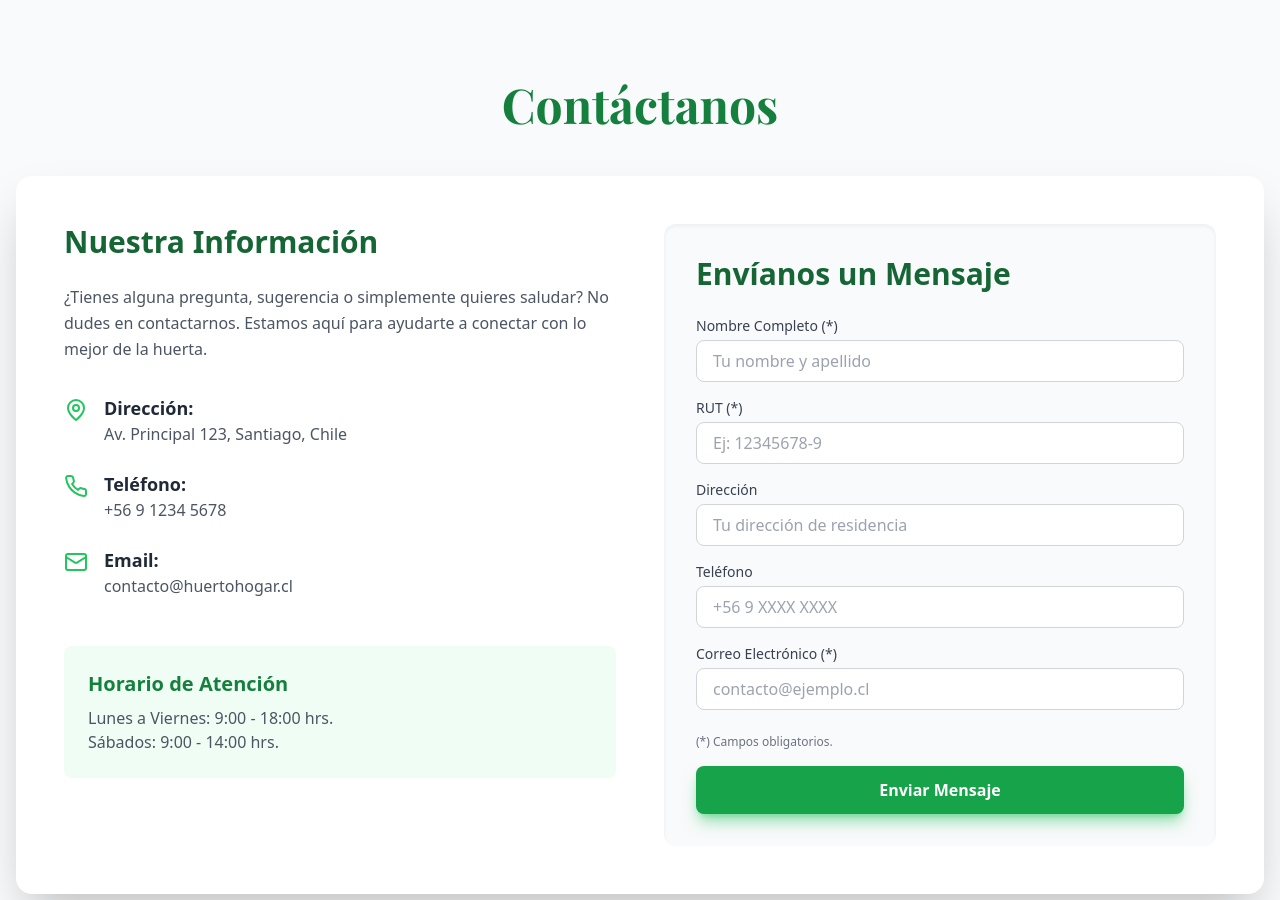
Test case: Componente Contacto › debería mostrar errores si se envía el formulario vacío
Click the button "Enviar Mensaje" at (940, 790), box [696,766,1184,814]
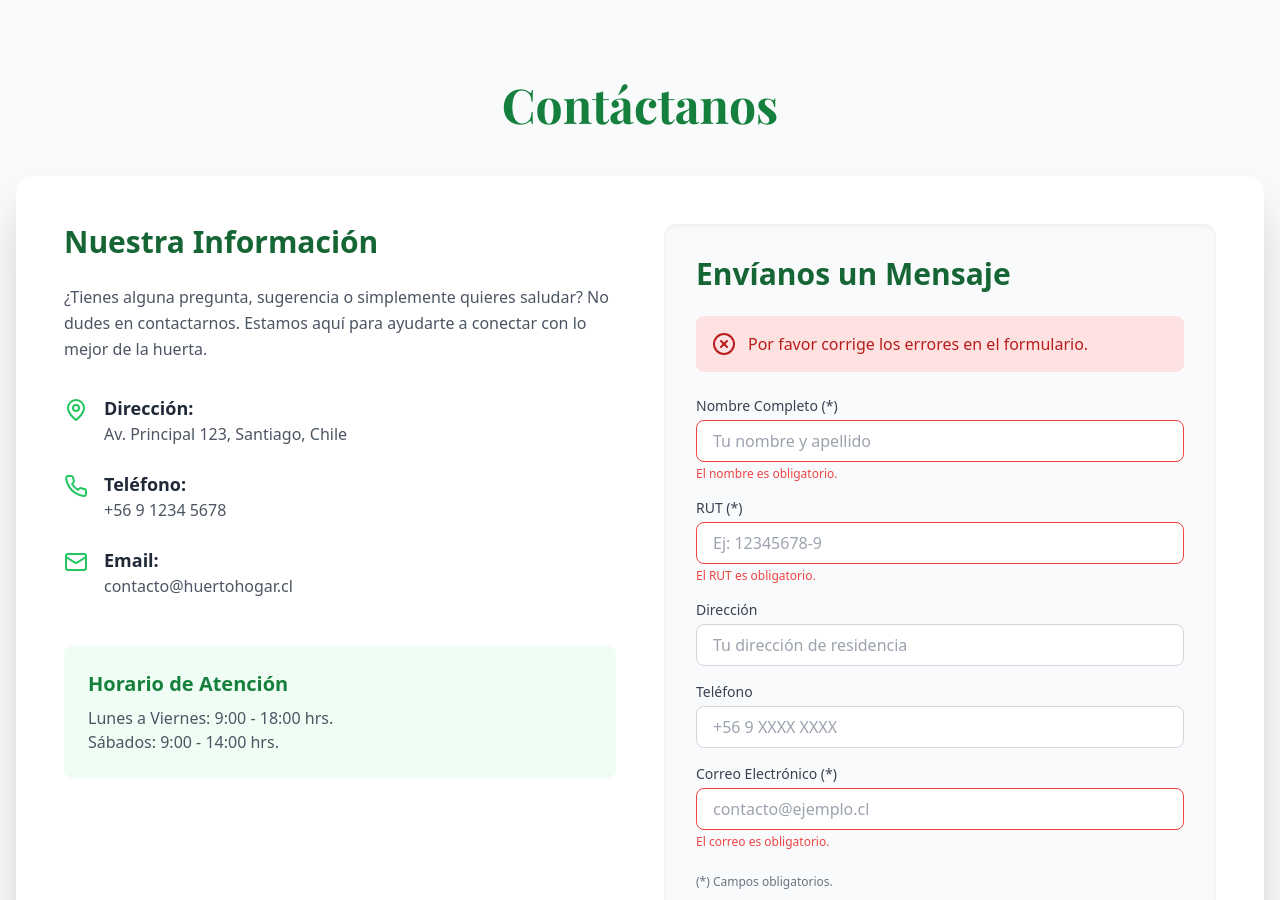
Expected: the text "El nombre es obligatorio." is shown, [696,465,838,482]
Expected: the text "El RUT es obligatorio." is shown, [696,567,816,584]
Expected: the text "El correo es obligatorio." is shown, [696,833,829,850]
